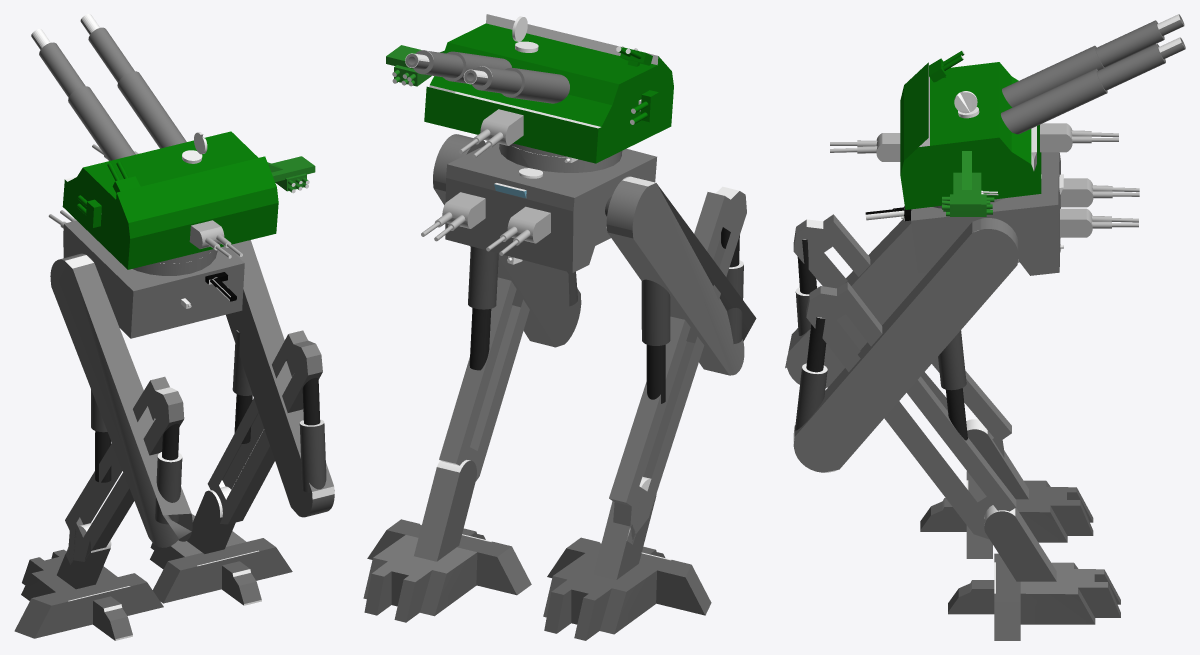
File: bipod.dae
3 views of the same model, side by side, from view 1: azimuth 30°, elevation 25°; view 2: azimuth 150°, elevation 25°; view 3: azimuth 270°, elevation 25° (orthographic). The views are drawn at different scales.
Parts seen in each view (by area): view 1: SketchUp (×28); view 2: SketchUp (×31); view 3: SketchUp (×28).
Boxes of the visible parts, x1,y1,x2,y2 form: SketchUp (×28): [14, 27, 334, 640]; SketchUp (×31): [363, 14, 756, 640]; SketchUp (×28): [785, 20, 1165, 640].
Size of the model in its own units: 798 by 941 by 1410.
